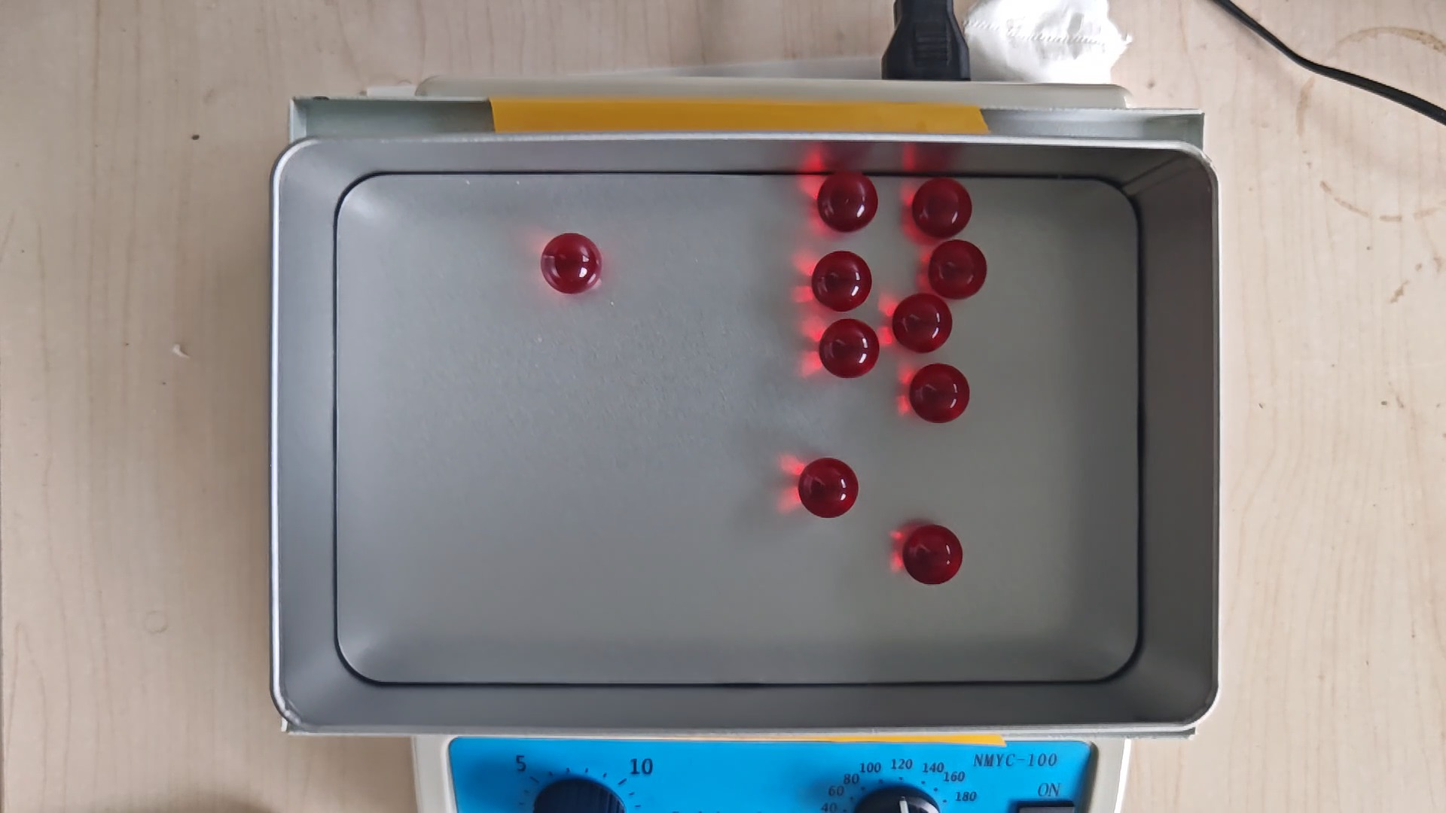ball: (540, 231, 602, 295), (902, 523, 963, 586), (819, 318, 880, 380), (817, 171, 878, 232), (799, 457, 859, 519), (910, 362, 970, 424), (913, 177, 973, 238), (812, 250, 872, 311), (893, 293, 953, 353), (929, 240, 988, 299)
container: (335, 173, 1140, 685)
